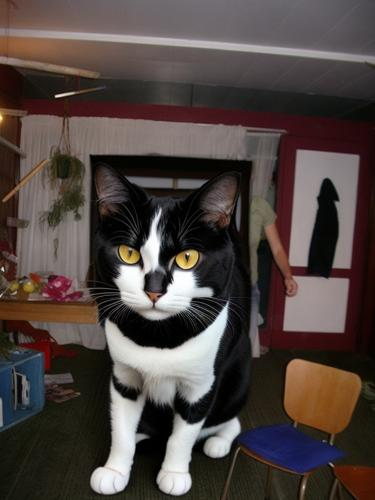cat: (89, 154, 251, 496)
chair: (221, 359, 362, 500), (96, 358, 124, 465), (330, 466, 375, 500)
person: (194, 153, 298, 414)
person/hand: (286, 277, 297, 296)
person/head: (220, 156, 254, 199)
pottedplant: (36, 156, 88, 231)
